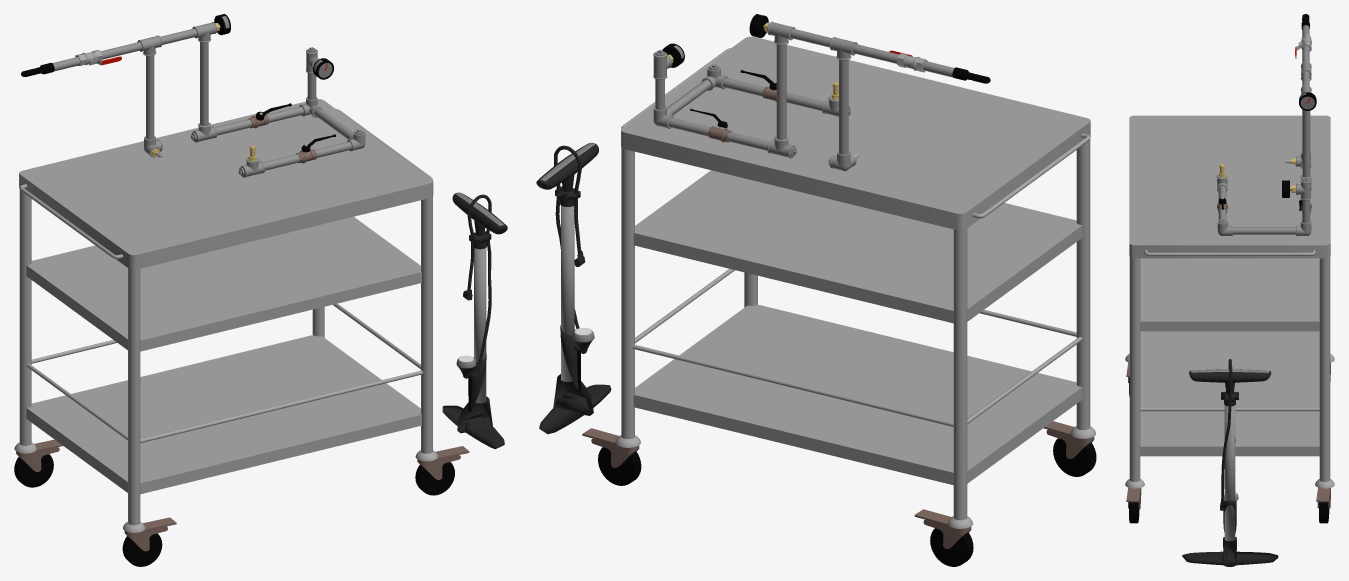
File: pipesystem.fbx
The picture shows the model from 3 angles, left to right: view 1: azimuth 30°, elevation 25°; view 2: azimuth 150°, elevation 25°; view 3: azimuth 270°, elevation 25°; orthographic projection. The views are drawn at different scales.
Parts seen in each view (by area): view 1: Table.001, 1/2"BPS Pipes, Main Tube, Inner Tube and handle, Tube, Cylinder.023, Cylinder.017, Cylinder.022, Cube.007, Cube.006, Cube.003; view 2: Table.001, 1/2"BPS Pipes, Main Tube, Inner Tube and handle, Cylinder.017, Cylinder.023, Cylinder.019, Cube.005, Cube.003, Tube, Cube.007; view 3: Table.001, Main Tube, 1/2"BPS Pipes, Inner Tube and handle, Tube, 3-Ways Connectors.020, Pressure Casing.002.
Boxes of the visible parts, x1,y1,x2,y2 form: Table.001: (14, 99, 437, 532); 1/2"BPS Pipes: (52, 28, 353, 170); Main Tube: (442, 231, 504, 449); Inner Tube and handle: (452, 192, 507, 235); Tube: (466, 194, 491, 373); Cylinder.023: (122, 533, 162, 566); Cylinder.017: (14, 454, 53, 487); Cylinder.022: (415, 462, 454, 495); Cube.007: (124, 517, 176, 551); Cube.006: (417, 446, 469, 479); Cube.003: (16, 439, 62, 471); Table.001: (615, 36, 1095, 528); 1/2"BPS Pipes: (655, 29, 954, 154); Main Tube: (539, 186, 611, 434); Inner Tube and handle: (536, 142, 598, 192); Cylinder.017: (930, 528, 973, 566); Cylinder.023: (1053, 438, 1096, 476); Cylinder.019: (598, 447, 641, 485); Cube.005: (582, 428, 639, 467); Cube.003: (914, 509, 971, 548); Tube: (554, 145, 582, 328); Cube.007: (1043, 421, 1094, 458); Table.001: (1125, 115, 1334, 488); Main Tube: (1182, 391, 1278, 566); 1/2"BPS Pipes: (1218, 25, 1310, 234); Inner Tube and handle: (1189, 369, 1271, 394); Tube: (1220, 359, 1232, 507); 3-Ways Connectors.020: (1296, 177, 1311, 200); Pressure Casing.002: (1299, 92, 1316, 110).
Bounding box in the file's own units: 122 × 119 × 59.33.
